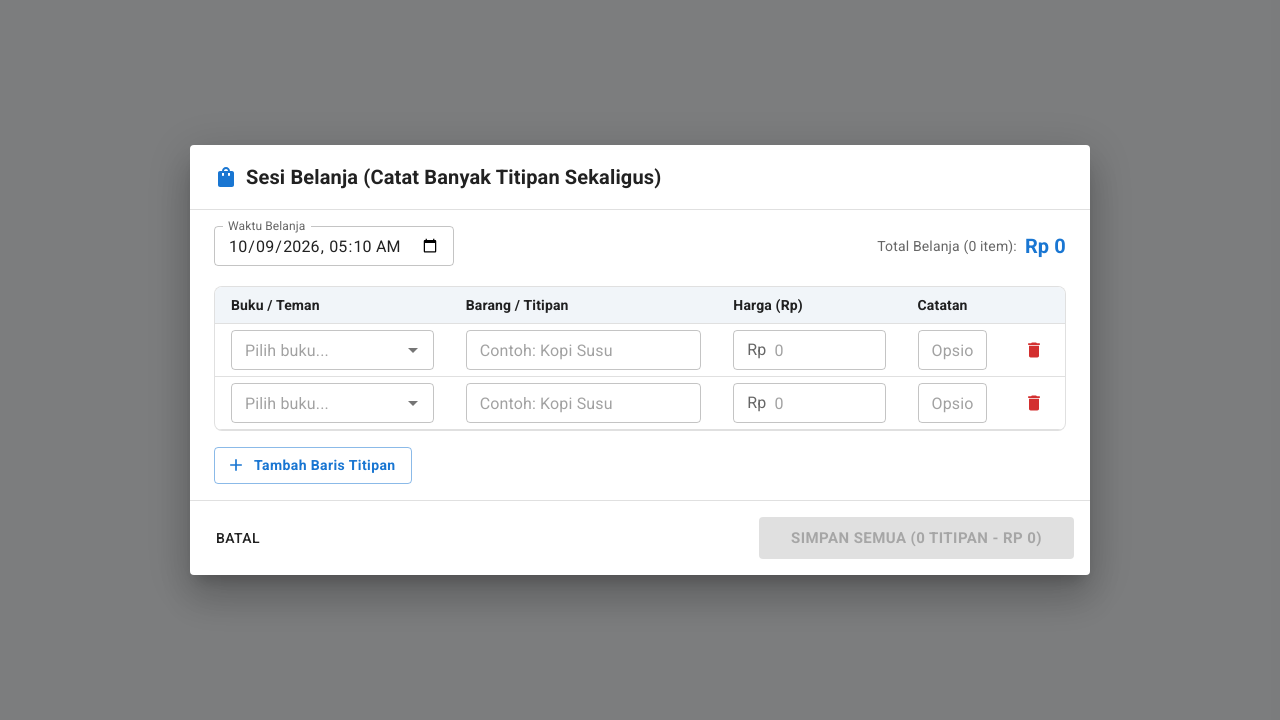
Sesi Belanja (F1 Multi-row Batch Entry) › handles item suggestion with last_price = 0 without setting amount to 0 string
// Select wallet
In the dropdown named "Buku baris 1": (316, 350) 237,336 -> 395,364, type "Rendy"
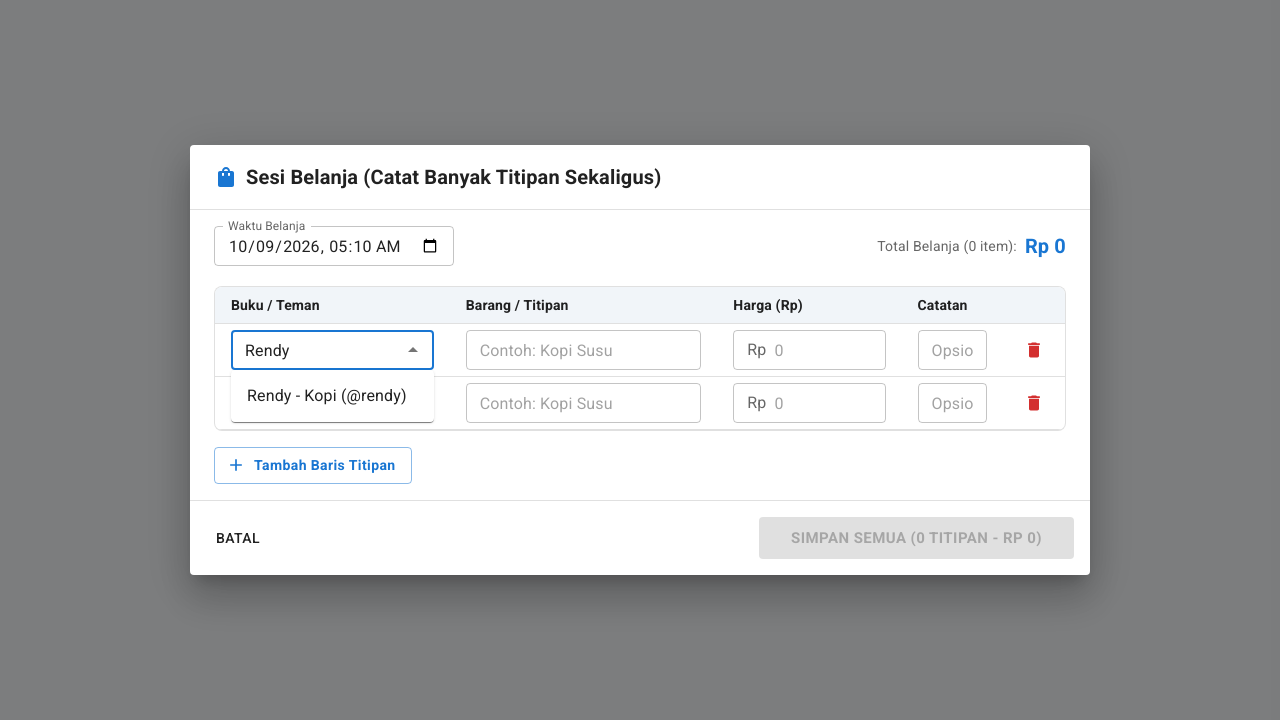
Press ArrowDown in the dropdown named "Buku baris 1", box 237,336 -> 395,364
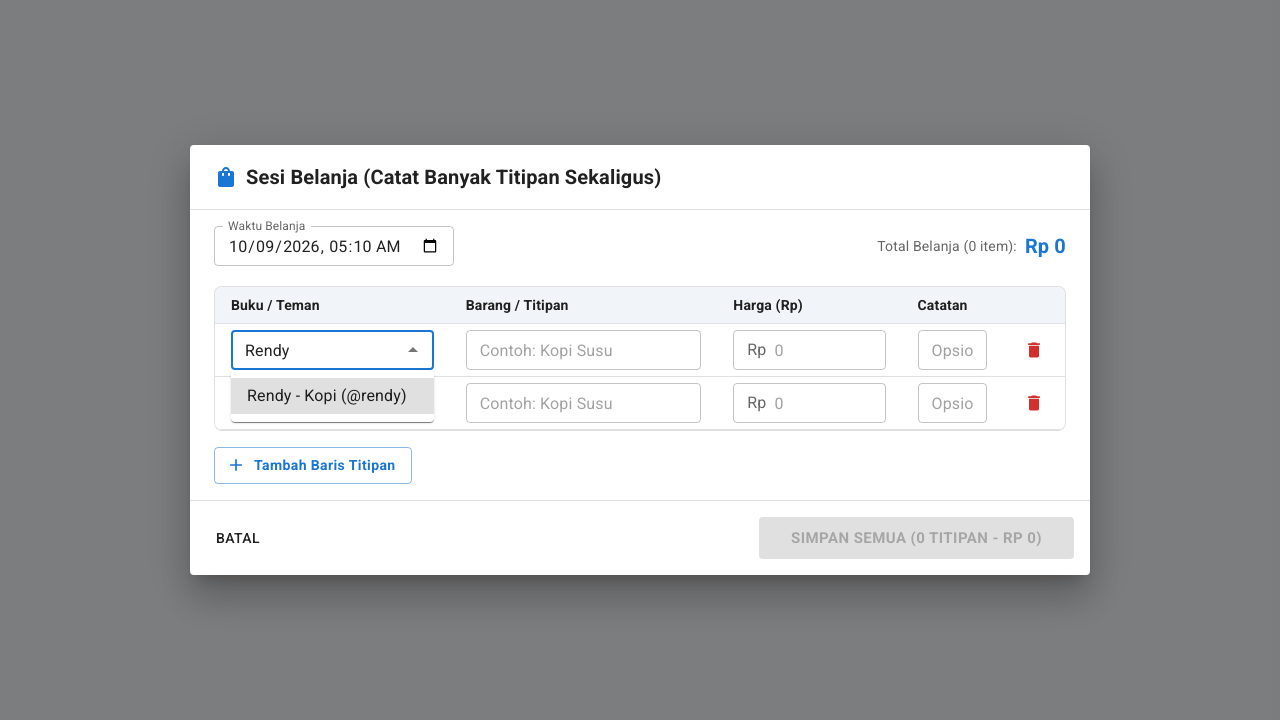
Press Enter in the dropdown named "Buku baris 1", box 237,336 -> 395,364
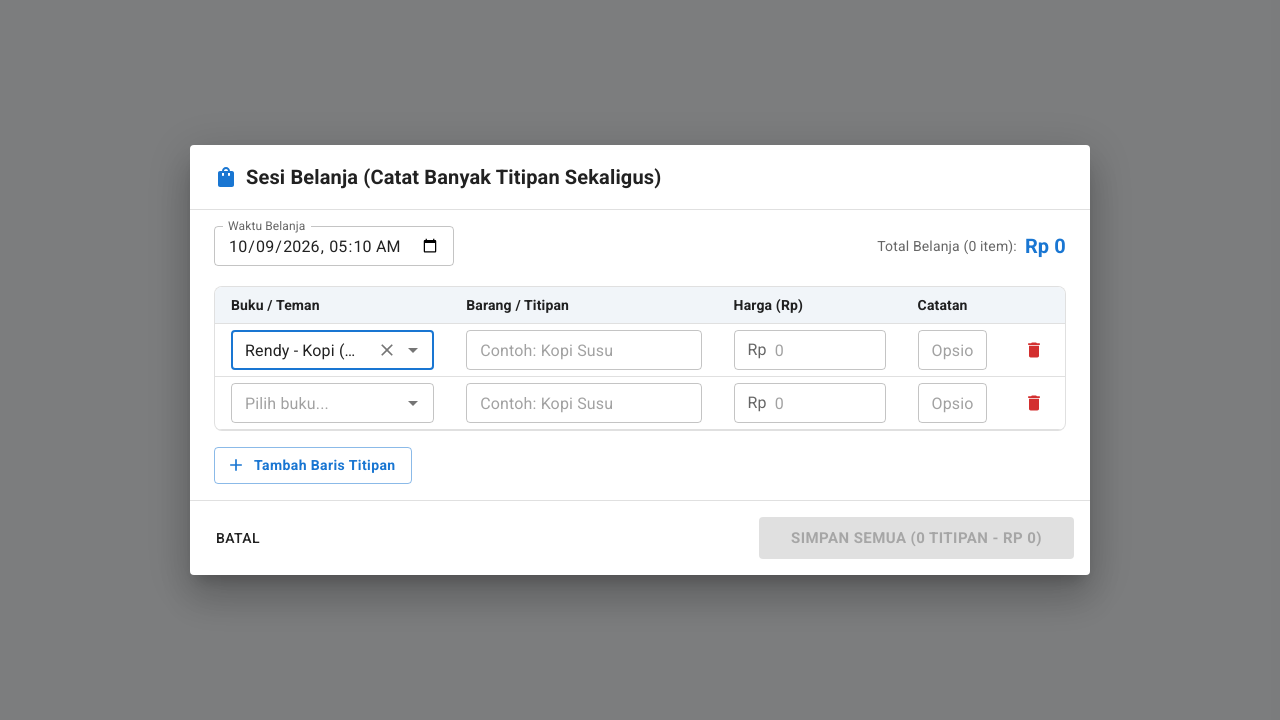
// Select suggestion
Focus the dropdown named "Barang baris 1": (567, 350) 472,336 -> 663,364
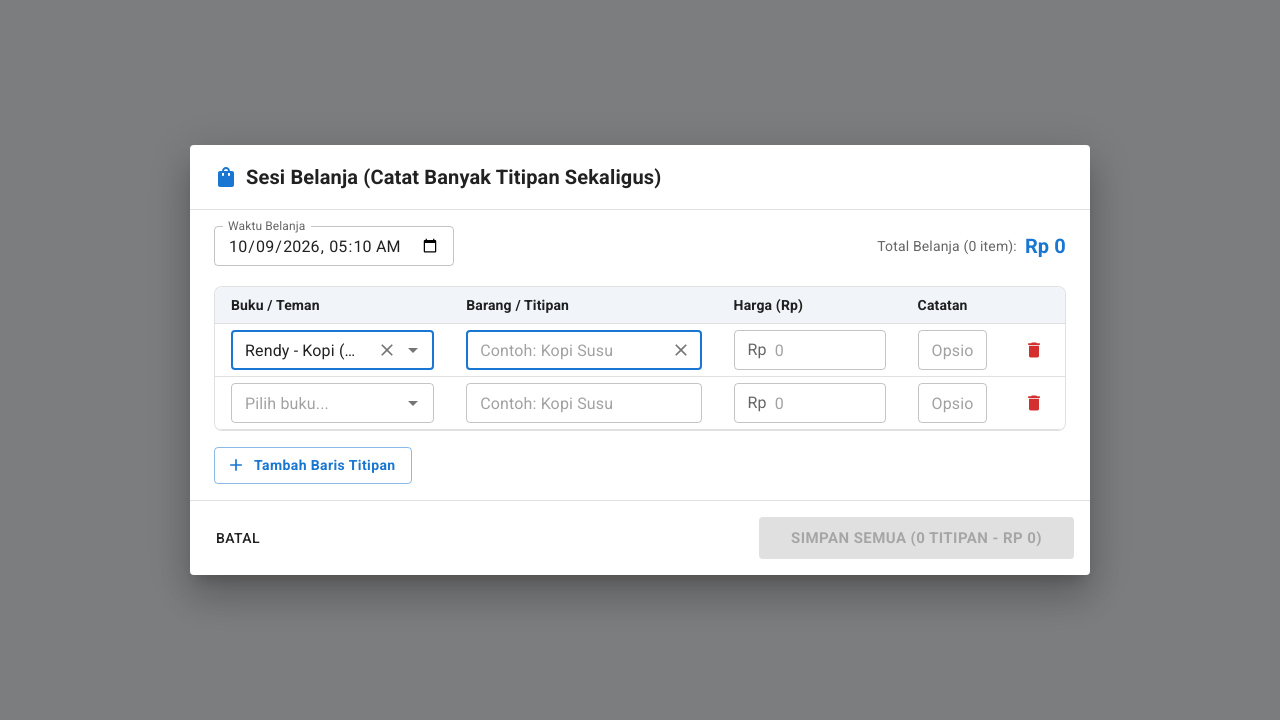
Press ArrowDown in the dropdown named "Barang baris 1", box 472,336 -> 663,364
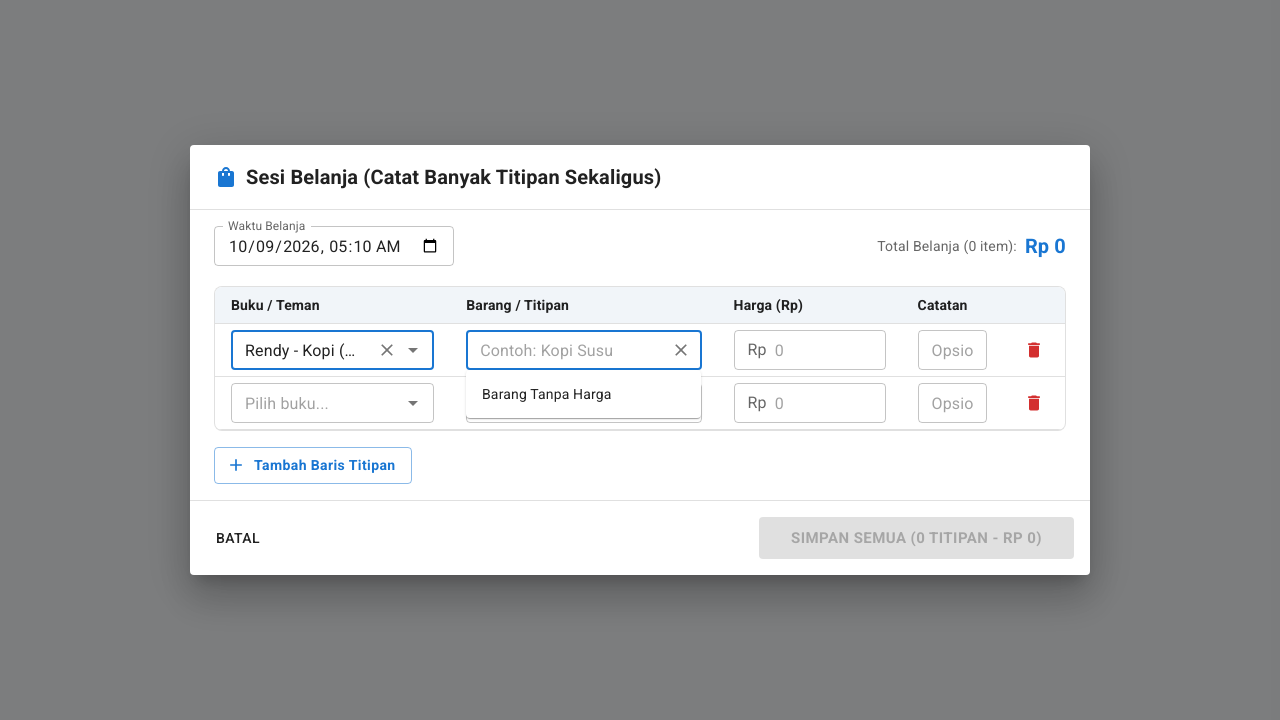
Click the option "Barang Tanpa Harga": (547, 394) 482,386 -> 612,402
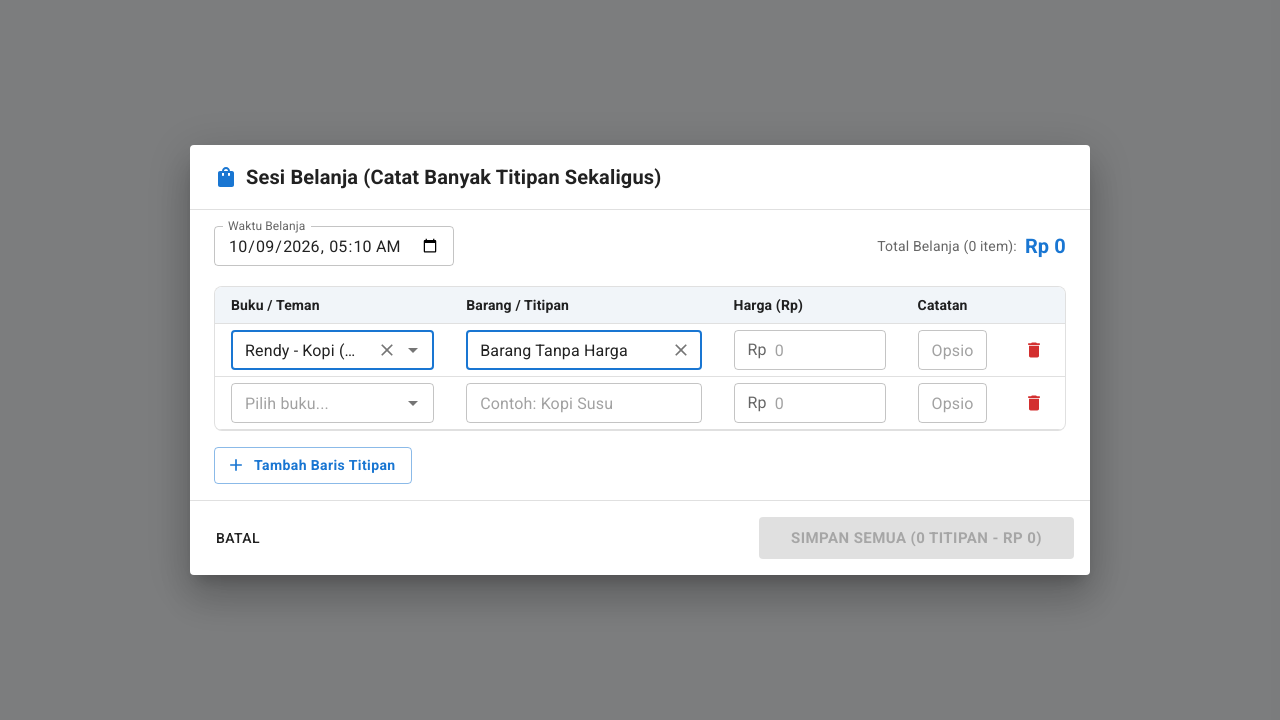
Expected: the field named "Harga baris 1" is empty, 775,330 -> 886,370
Expected: the dropdown named "Barang baris 1" holds "Barang Tanpa Harga", 472,336 -> 663,364
